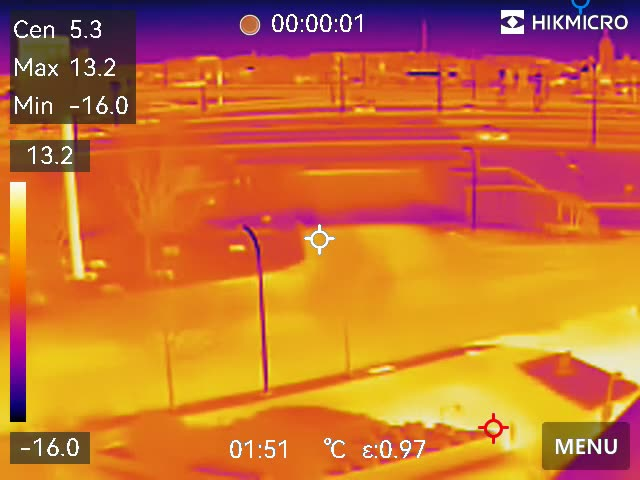vehicle: (473, 127, 509, 141), (347, 103, 382, 116)
